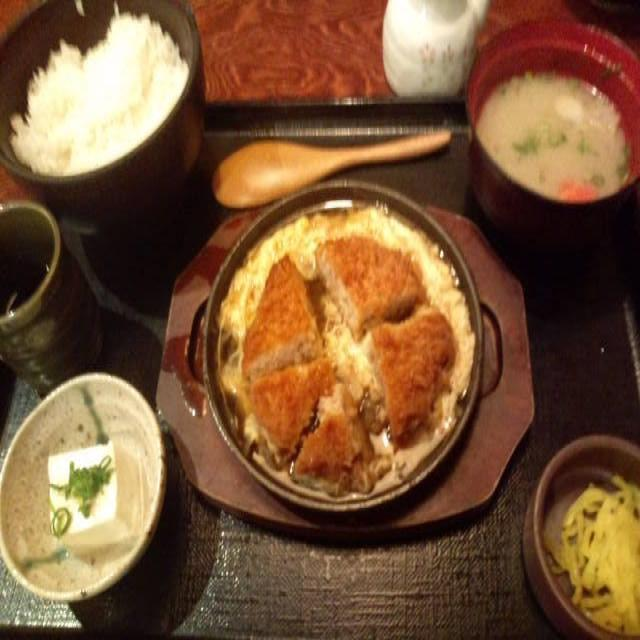Rice: (11, 5, 171, 175)
